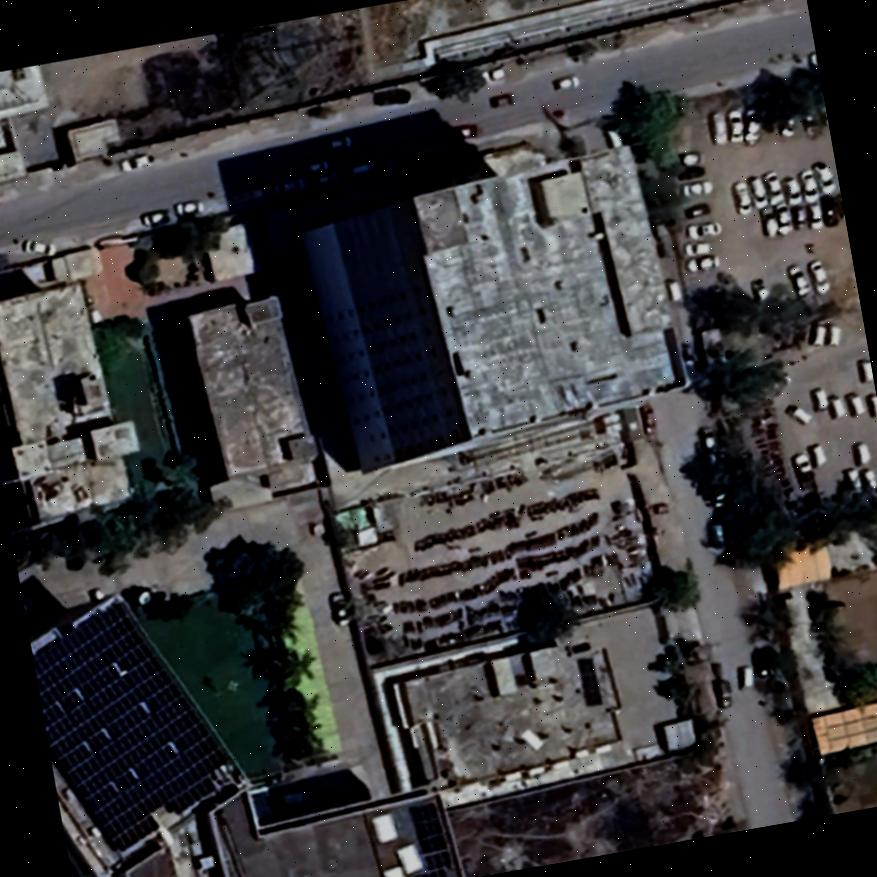Solarpanel: (30, 591, 242, 877)
